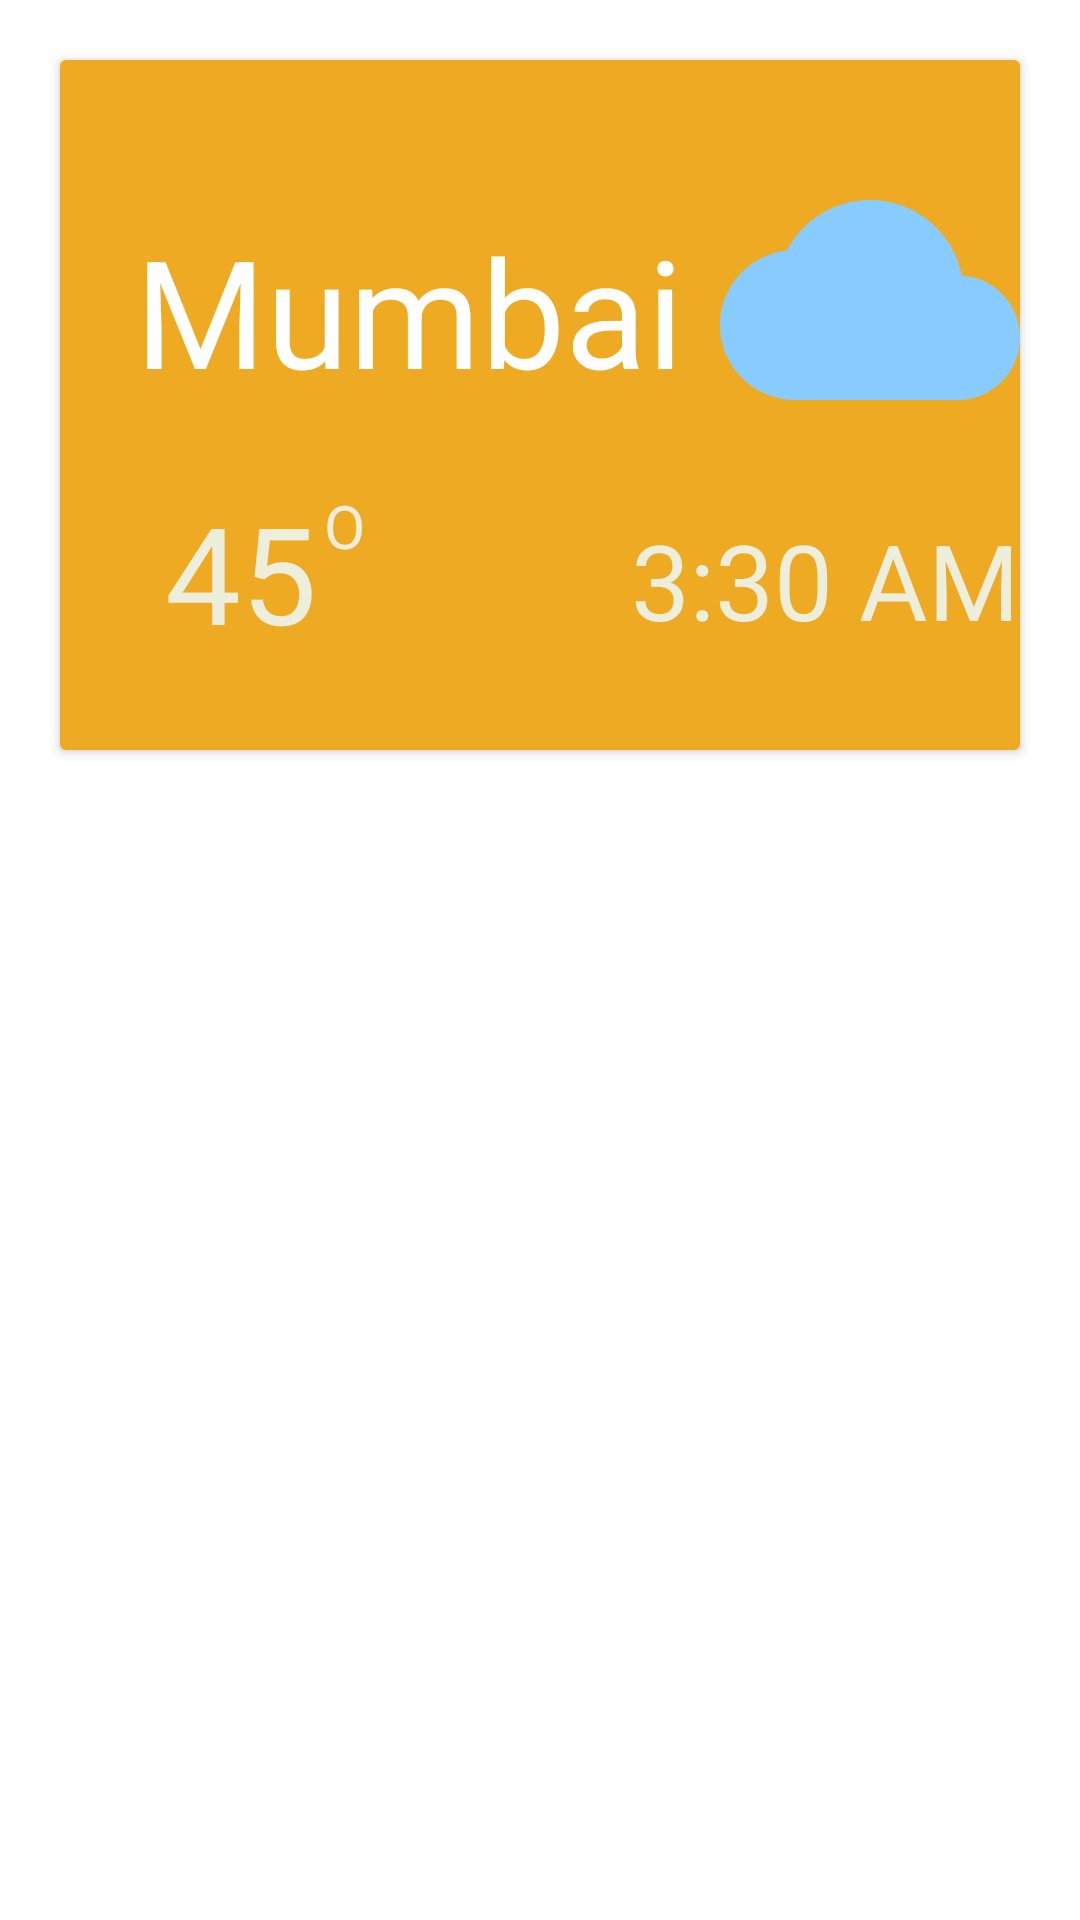

Where icons sit on this 1080 x 1920 app screen, as detection(x1, y1, x2, y2):
cloud: detection(720, 200, 1020, 400)
